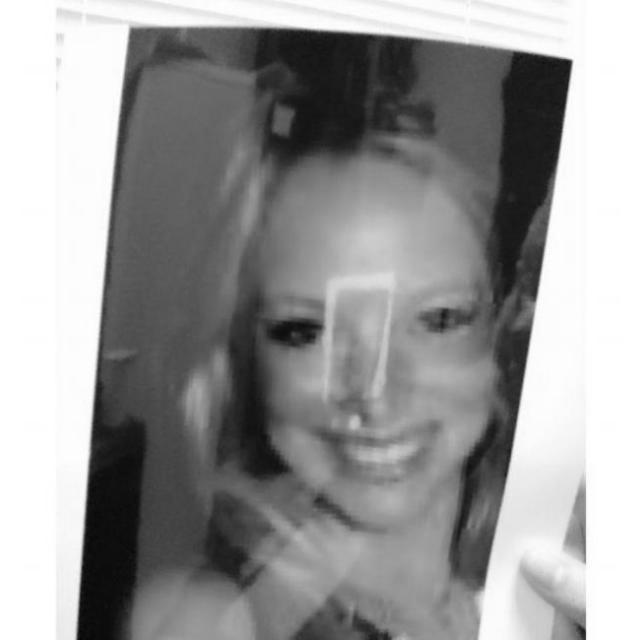fake: (62, 20, 583, 640)
